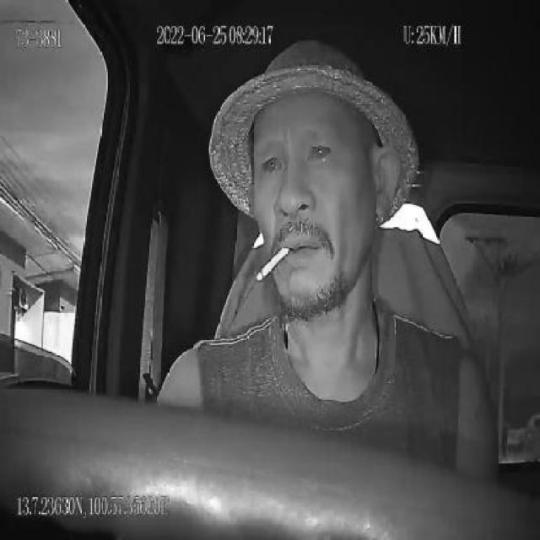smoking: (255, 244, 290, 284)
